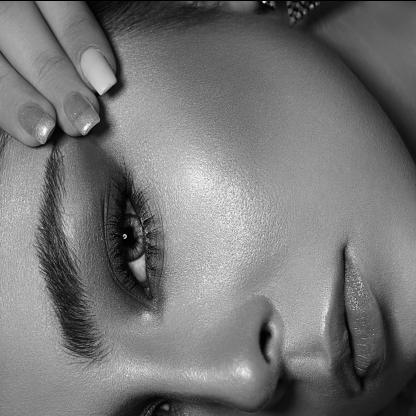Eye: (78, 164, 175, 327)
Mouth: (314, 236, 392, 401)
Nose: (128, 288, 294, 414)
